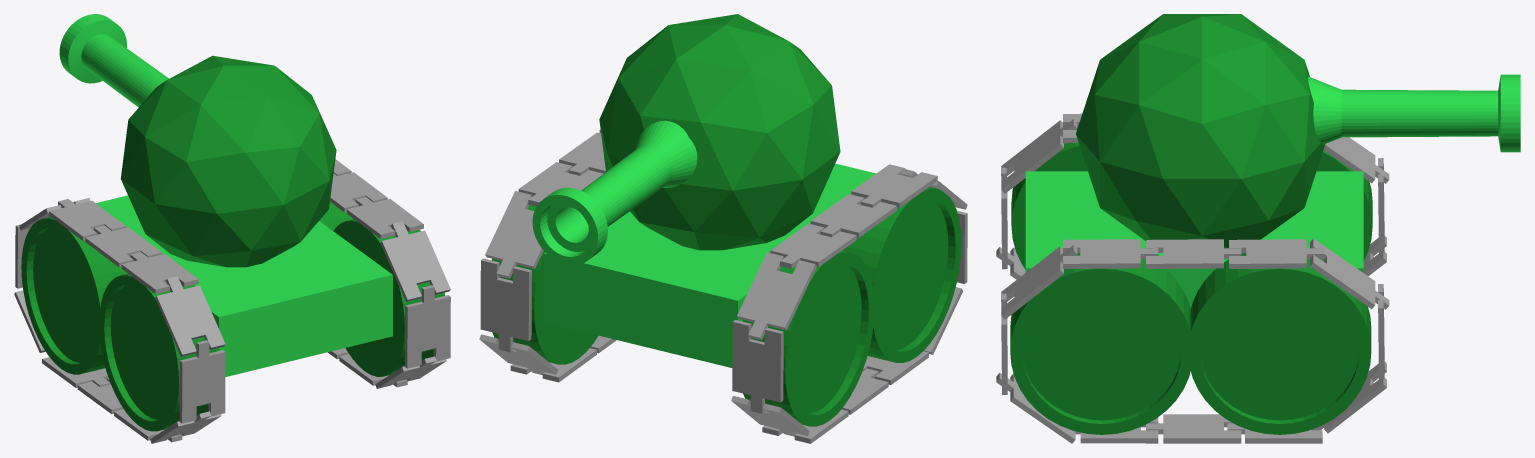
The model's file is tank1.gltf.
3 views of the same model, side by side, from view 1: azimuth 30°, elevation 25°; view 2: azimuth 150°, elevation 25°; view 3: azimuth 270°, elevation 25° (orthographic). The views are drawn at different scales.
Parts seen in each view (by area): view 1: gub_sphere, platform, wheel_right, rail_right, rail_left, wheel_left; view 2: gub_sphere, wheel_right, platform, rail_right, rail_left, wheel_left; view 3: gub_sphere, wheel_left, rail_left, platform, rail_right, wheel_right.
Part boxes in pixels (x1,y1,x2,y2): gub_sphere: (59,14,336,267); platform: (96,195,392,376); wheel_right: (21,217,219,431); rail_right: (14,198,225,443); rail_left: (328,159,450,388); wheel_left: (319,202,445,376); gub_sphere: (532,14,840,265); wheel_right: (743,187,961,426); platform: (544,163,875,367); rail_right: (731,164,967,443); rail_left: (479,129,616,382); wheel_left: (491,205,598,364); gub_sphere: (1076,14,1520,248); wheel_left: (1010,253,1371,434); rail_left: (996,238,1389,443); platform: (1025,171,1363,308); rail_right: (996,113,1389,279); wheel_right: (1011,127,1372,269).
Size of the model in its own units: 9.14 by 9.92 by 13.49.
